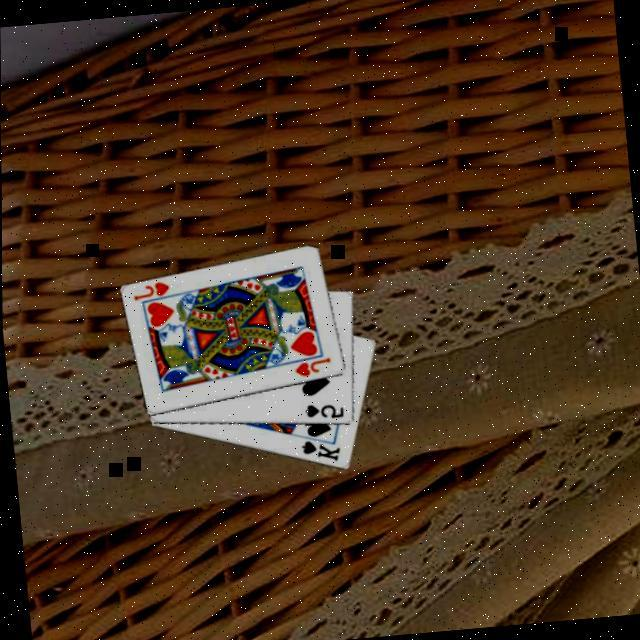5S: (300, 401, 346, 425)
JH: (289, 356, 333, 382), (128, 280, 172, 306)
KS: (296, 437, 342, 469)
